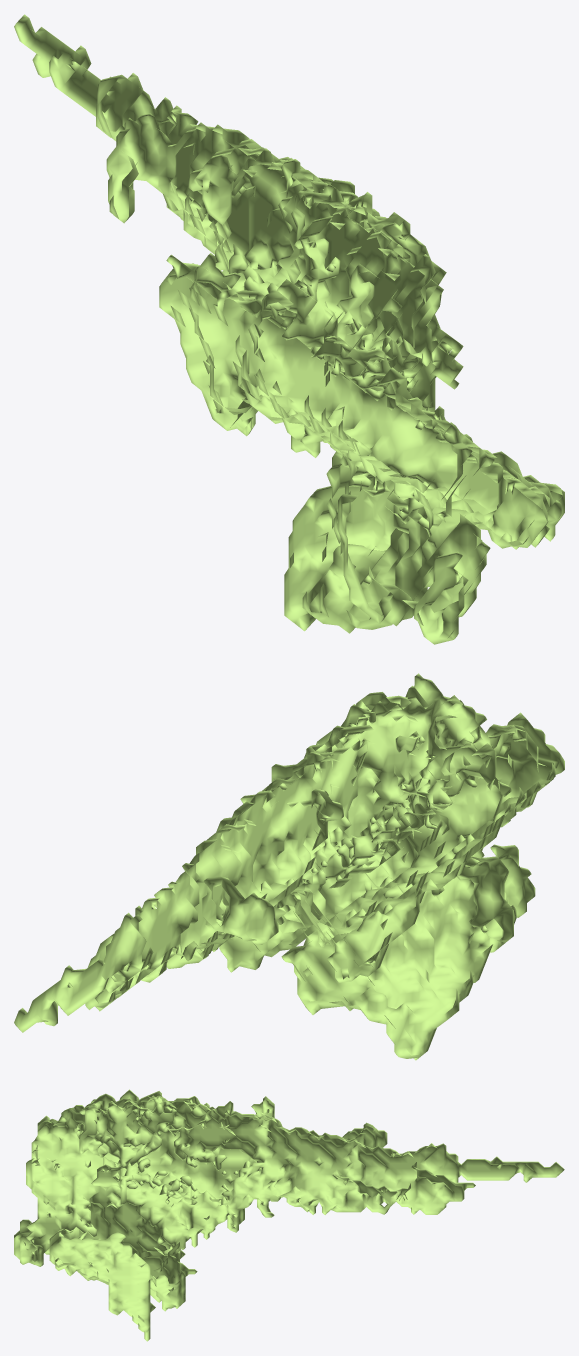
Rendered from osteocyte_85.glb.
3 views of the same model, one above another, from view 1: azimuth 30°, elevation 25°; view 2: azimuth 150°, elevation 25°; view 3: azimuth 270°, elevation 25° (orthographic). The views are drawn at different scales.
Parts seen in each view (by area): view 1: osteocyte_85; view 2: osteocyte_85; view 3: osteocyte_85.
Boxes of the visible parts, x1,y1,x2,y2 form: osteocyte_85: [14, 14, 564, 644]; osteocyte_85: [14, 673, 564, 1060]; osteocyte_85: [14, 1089, 564, 1341].
Bounding box in the file's own units: 16.37 × 19.74 × 44.78.
